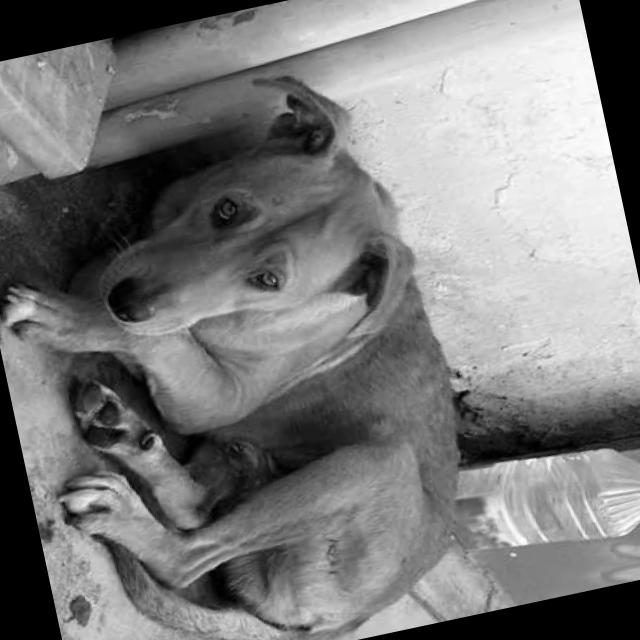laying down: (0, 41, 513, 640)
